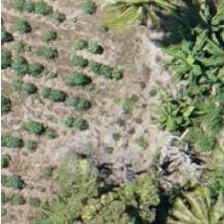Kelapa_Sawit: (167, 174, 224, 224)
